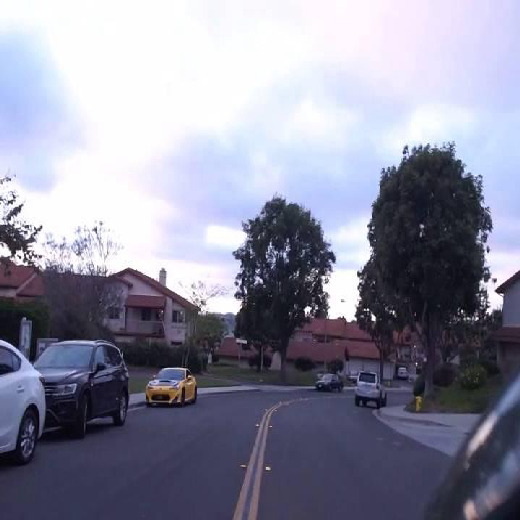license_plate: (318, 384, 323, 389)
vehicle: (16, 337, 131, 440), (142, 365, 198, 408), (352, 368, 384, 407), (315, 372, 342, 392)
